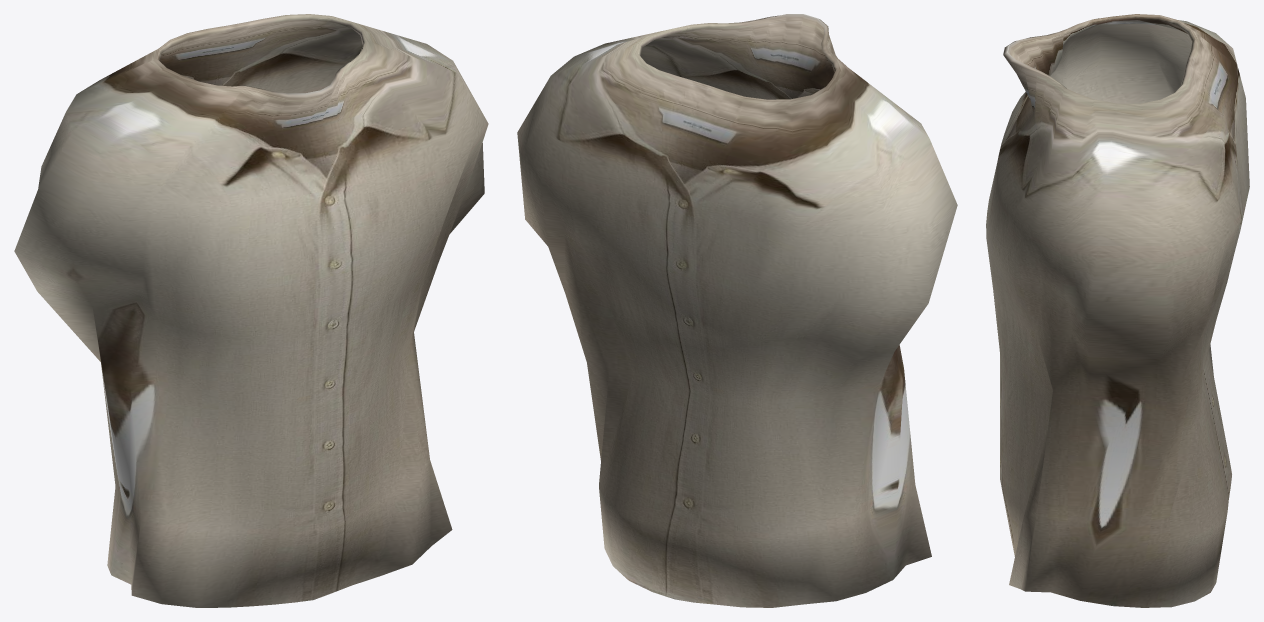
The model's file is item_shirt.glb.
The picture shows the model from 3 angles, left to right: view 1: azimuth 30°, elevation 25°; view 2: azimuth 150°, elevation 25°; view 3: azimuth 270°, elevation 25°; orthographic projection.
Parts seen in each view (by area): view 1: garment; view 2: garment; view 3: garment.
Boxes of the visible parts, box(x1,y1,x2,y2) form: garment: box(14, 14, 488, 607); garment: box(517, 14, 957, 607); garment: box(986, 14, 1249, 607).
Size of the model in its own units: 0.5998 by 0.6986 by 0.3274.
Materials: 1 (1 with a texture image).
